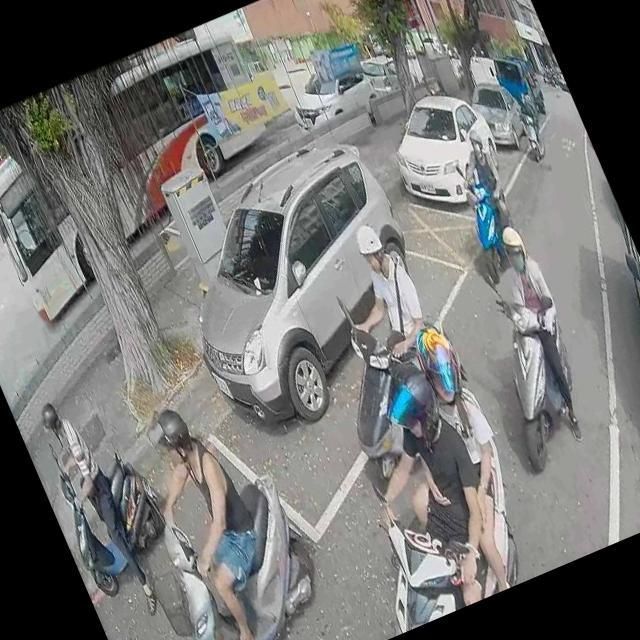person: (342, 310, 552, 612), (318, 352, 520, 626), (118, 386, 302, 640), (28, 385, 160, 620), (476, 210, 608, 445), (308, 206, 442, 381), (442, 118, 524, 248), (514, 90, 536, 120)
